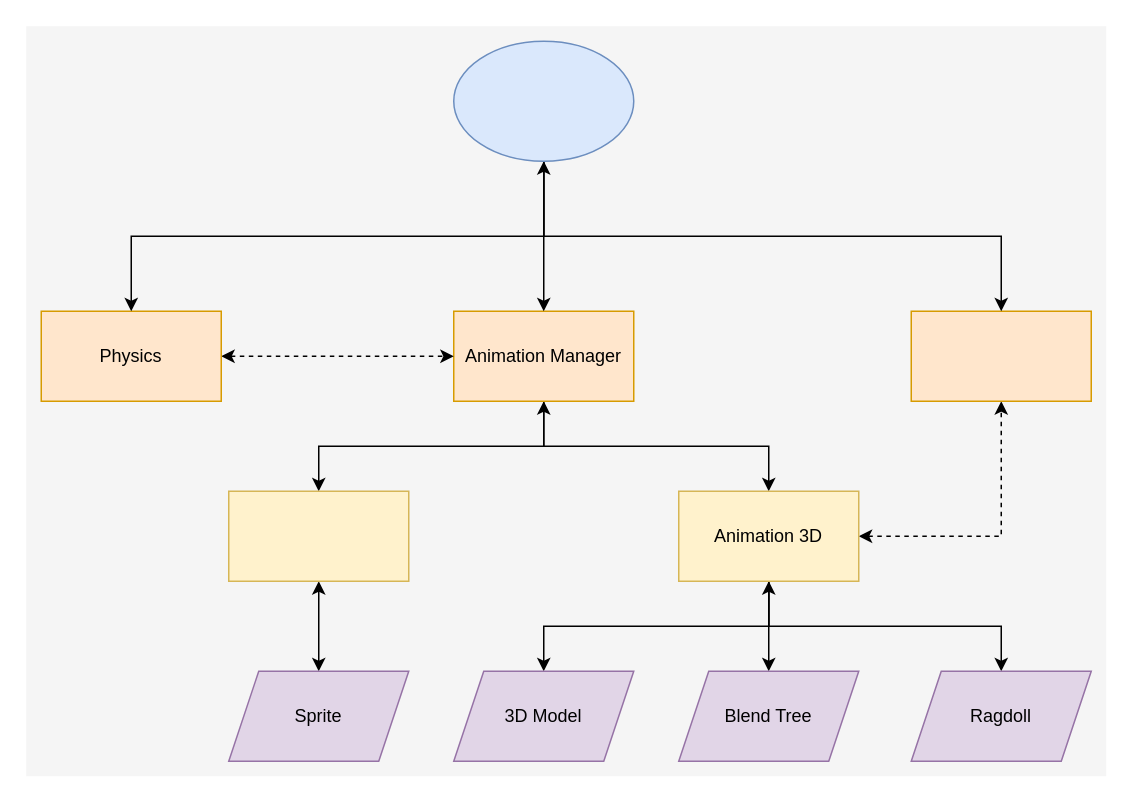
This 1131x801 diagram has some shape labels left out. The centre of each missing label's shape, as x and y in pixels:
Animation 2D: the point at 318,535
Application: the point at 543,100
User Interface: Node Editor: the point at 1000,355
